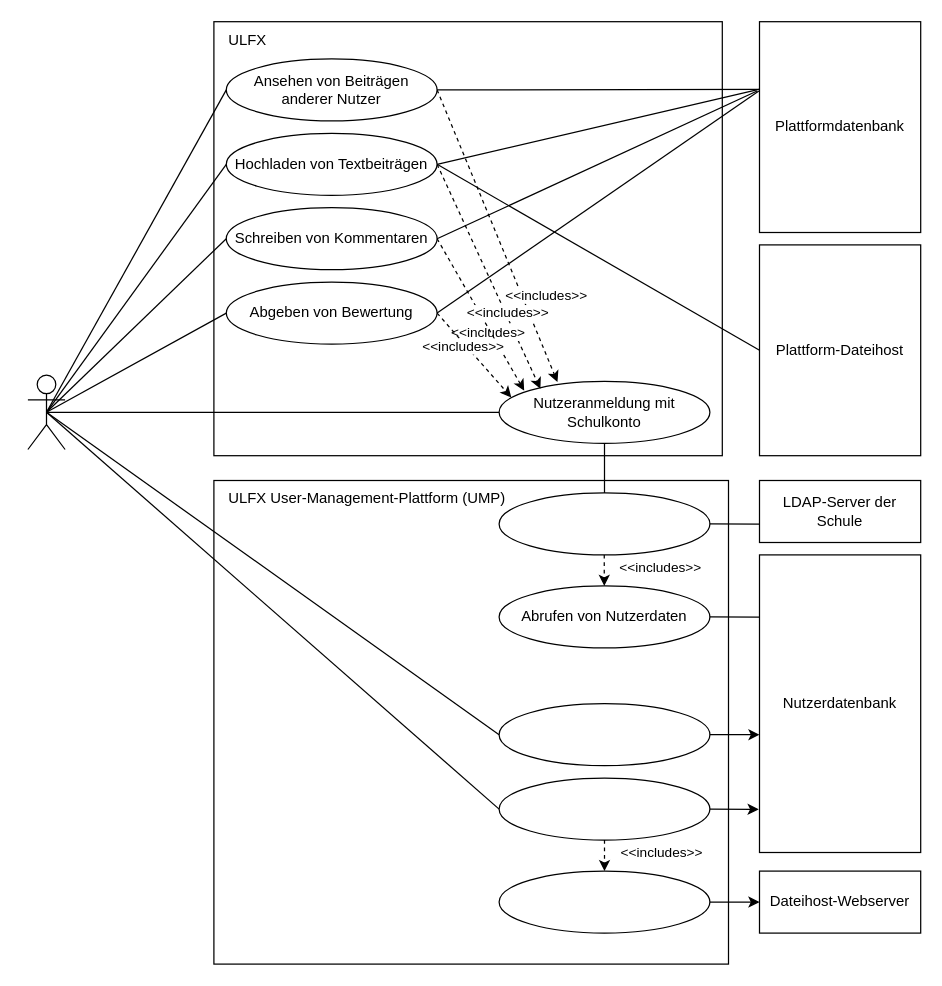
Image size: 942x986. Some labels were removed from this diagram. Here are the shapes that lost their labels. From the top down, the centre of each, then its label:
the point at 46,412: Nutzer/ Schüler
the point at 604,523: Nutzerauthentifizierung via Schullogin
the point at 604,734: Setzen von Anzeigename, Beschreibung, etc
the point at 604,808: Setzen von Profilbild
the point at 604,901: Upload eines Bildes
